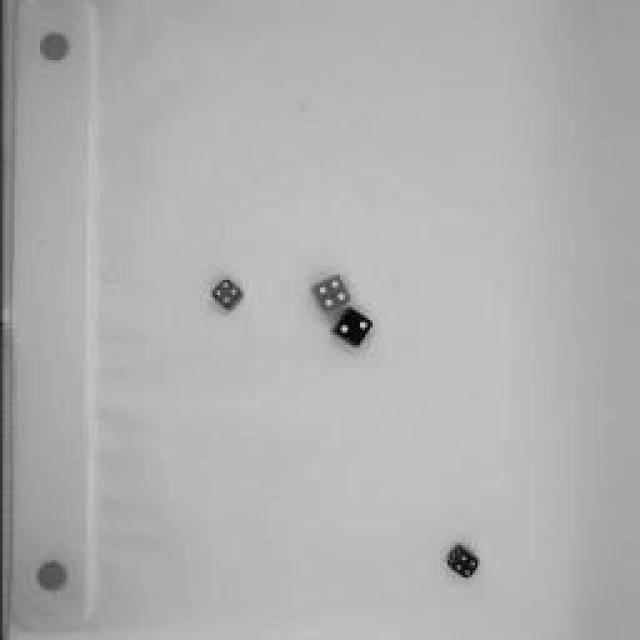dice_2: (326, 298, 376, 354)
dice_4: (305, 269, 357, 321), (204, 275, 246, 317), (441, 542, 481, 582)
